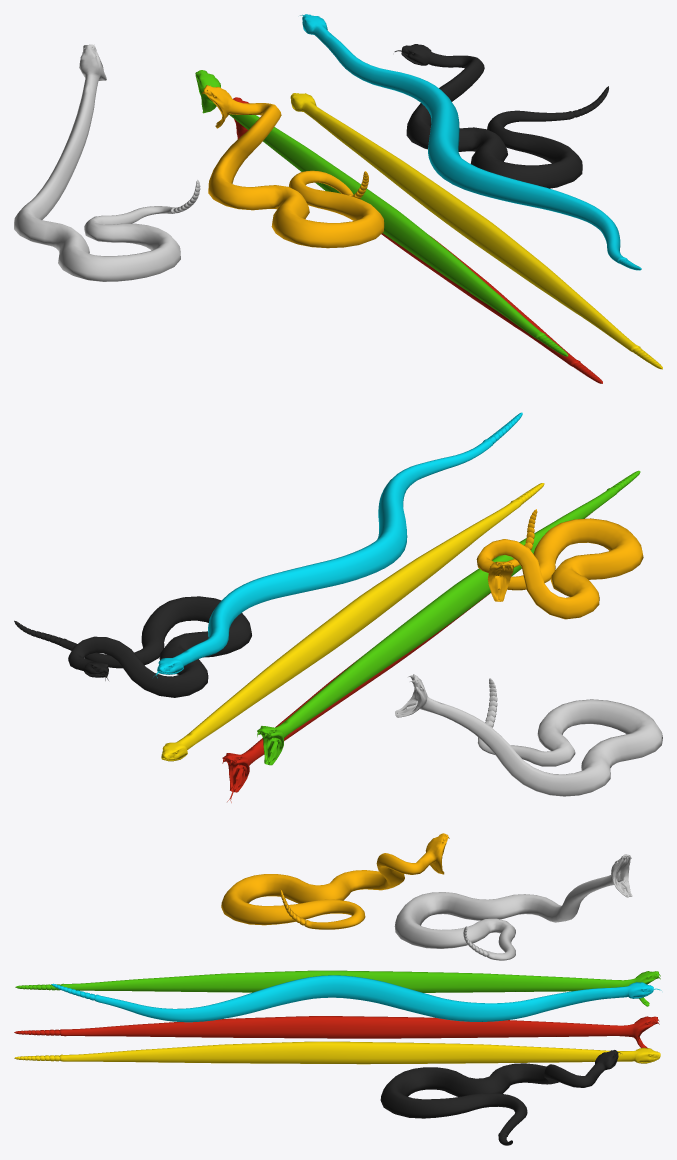
Rendered from snake.dae.
3 renders of one model, top to bottom at view 1: azimuth 30°, elevation 25°; view 2: azimuth 150°, elevation 25°; view 3: azimuth 270°, elevation 25°, orthographic. The views are drawn at different scales.
Parts seen in each view (by area): view 1: RSattack01, RSattack02, RScrawl, RSclosemouth, RSdefence, RSopenmouth, RSopenmouthtongue; view 2: RSattack01, RSattack02, RScrawl, RSclosemouth, RSdefence, RSopenmouth, RSopenmouthtongue; view 3: RSopenmouthtongue, RSclosemouth, RScrawl, RSopenmouth, RSattack02, RSattack01, RSdefence.
Boxes of the visible parts, x1,y1,x2,y2 form: RSattack01: [14, 44, 200, 281]; RSattack02: [201, 85, 384, 248]; RScrawl: [300, 14, 641, 270]; RSclosemouth: [290, 93, 662, 369]; RSdefence: [394, 44, 608, 188]; RSopenmouth: [195, 70, 568, 356]; RSopenmouthtongue: [233, 97, 602, 383]; RSattack01: [395, 674, 662, 796]; RSattack02: [476, 509, 643, 619]; RScrawl: [153, 412, 522, 677]; RSclosemouth: [161, 483, 544, 761]; RSdefence: [14, 596, 251, 697]; RSopenmouth: [257, 470, 640, 765]; RSopenmouthtongue: [222, 512, 592, 802]; RSopenmouthtongue: [14, 1016, 659, 1048]; RSclosemouth: [14, 1041, 660, 1064]; RScrawl: [51, 975, 661, 1022]; RSopenmouth: [15, 970, 660, 1006]; RSattack02: [221, 833, 449, 929]; RSattack01: [394, 854, 632, 960]; RSdefence: [380, 1050, 621, 1145].
Bounding box in the file's own units: 37207 × 11140 × 40868.
